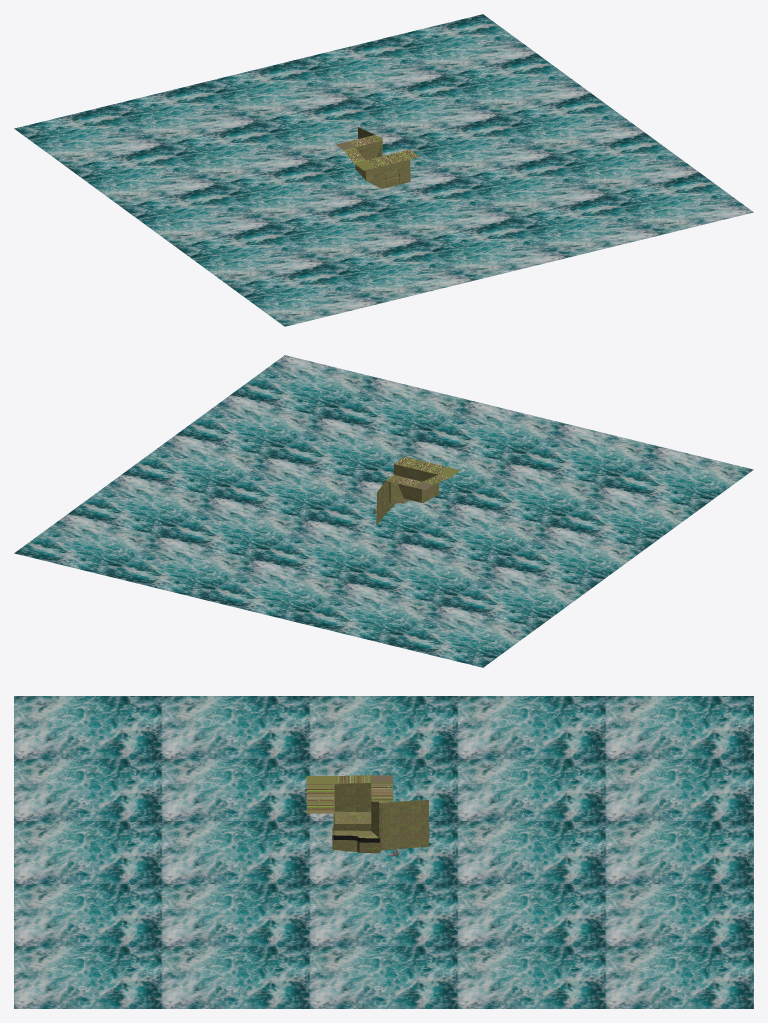
Rendered from amogus_ship.glb.
3 views of the same model, one above another, from view 1: azimuth 30°, elevation 25°; view 2: azimuth 150°, elevation 25°; view 3: azimuth 270°, elevation 25° (orthographic). The views are drawn at different scales.
Parts seen in each view (by area): view 1: Plane-col, Cube-col; view 2: Plane-col, Cube-col; view 3: Plane-col, Cube-col.
Part boxes in pixels (x1,y1,x2,y2): Plane-col: (14, 14, 753, 326); Cube-col: (336, 127, 419, 188); Plane-col: (14, 355, 753, 667); Cube-col: (376, 456, 460, 525); Plane-col: (14, 696, 753, 1008); Cube-col: (306, 775, 428, 853).
Bounding box in the file's own units: 683 × 60.44 × 683.
4 materials, 4 textured.
